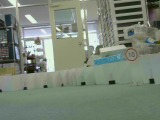speed_10: (124, 46, 139, 63)
